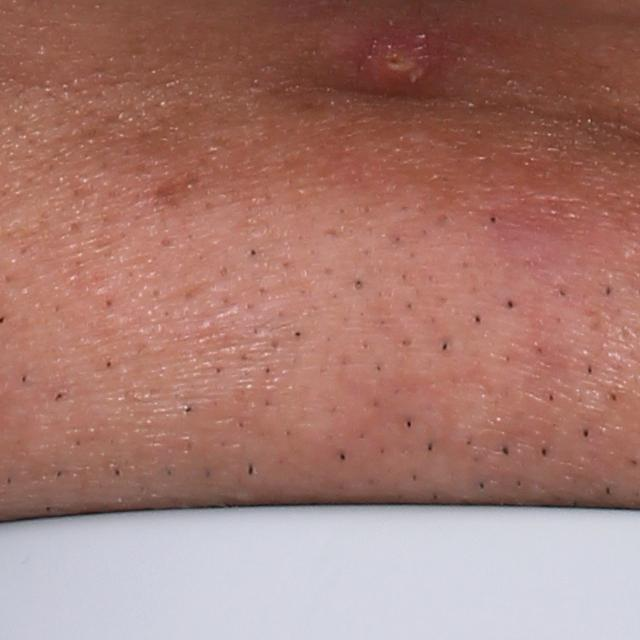pustule: (367, 33, 434, 88)
